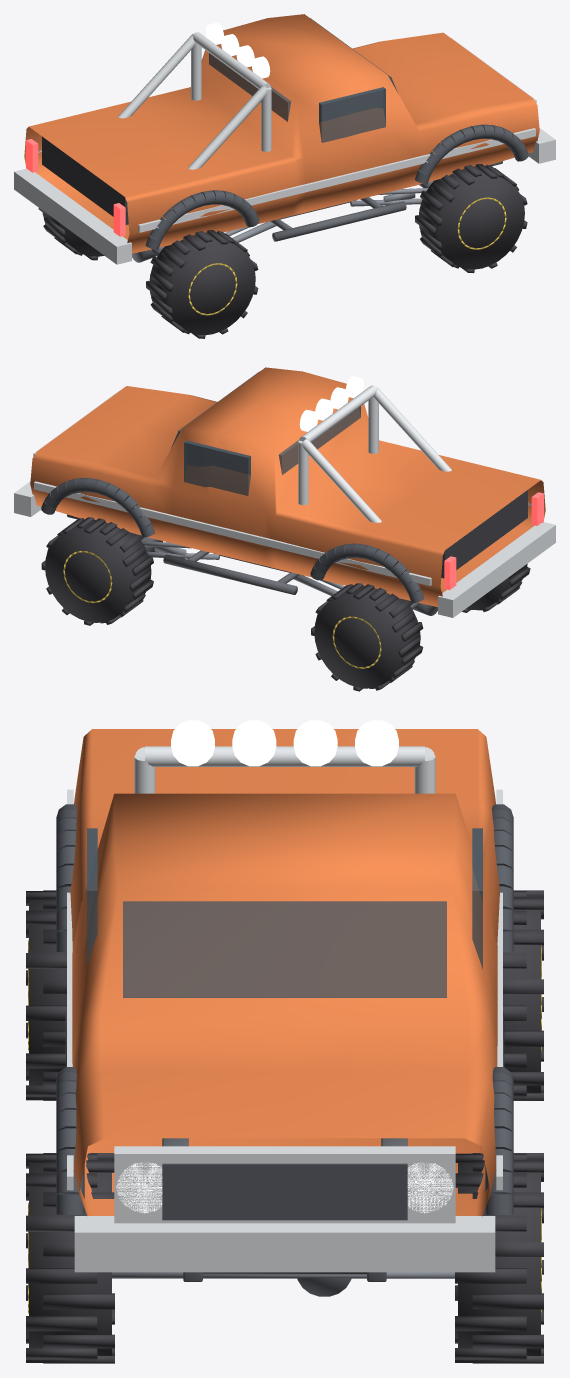
File: jax_classic_70s_03.glb
3 views of the same model, one above another, from view 1: azimuth 30°, elevation 25°; view 2: azimuth 150°, elevation 25°; view 3: azimuth 270°, elevation 25° (orthographic). The views are drawn at different scales.
Visible parts, largest first — view 1: Body_Shell, Wheel_FR, Wheel_RR, Chassis_Frame, Wheel_RL, ControlArm_FR, TrailingArm_RR; view 2: Body_Shell, Wheel_FL, Wheel_RL, Chassis_Frame, Wheel_RR, ControlArm_FL, TrailingArm_RL; view 3: Body_Shell, Wheel_FR, Wheel_FL, Wheel_RL, Wheel_RR, Axle_Front, Chassis_Frame.
Part boxes in pixels (left/top/right/bottom): Body_Shell: left=14, top=14, right=555, bottom=264; Wheel_FR: left=415, top=164, right=527, bottom=273; Wheel_RR: left=146, top=230, right=258, bottom=338; Chassis_Frame: left=134, top=161, right=502, bottom=253; Wheel_RL: left=38, top=208, right=104, bottom=260; ControlArm_FR: left=350, top=188, right=428, bottom=206; TrailingArm_RR: left=224, top=221, right=276, bottom=242; Body_Shell: left=14, top=367, right=555, bottom=617; Wheel_FL: left=41, top=517, right=153, bottom=625; Wheel_RL: left=311, top=583, right=423, bottom=691; Chassis_Frame: left=67, top=514, right=437, bottom=607; Wheel_RR: left=462, top=564, right=530, bottom=612; ControlArm_FL: left=141, top=541, right=219, bottom=559; TrailingArm_RL: left=293, top=574, right=344, bottom=595; Body_Shell: left=56, top=720, right=513, bottom=1272; Wheel_FR: left=26, top=1153, right=114, bottom=1363; Wheel_FL: left=455, top=1153, right=543, bottom=1363; Wheel_RL: left=503, top=890, right=543, bottom=1100; Wheel_RR: left=26, top=890, right=66, bottom=1100; Axle_Front: left=112, top=1272, right=454, bottom=1296; Chassis_Frame: left=65, top=1011, right=504, bottom=1281.
Size of the model in its own units: 4.62 by 2.29 by 2.37.
